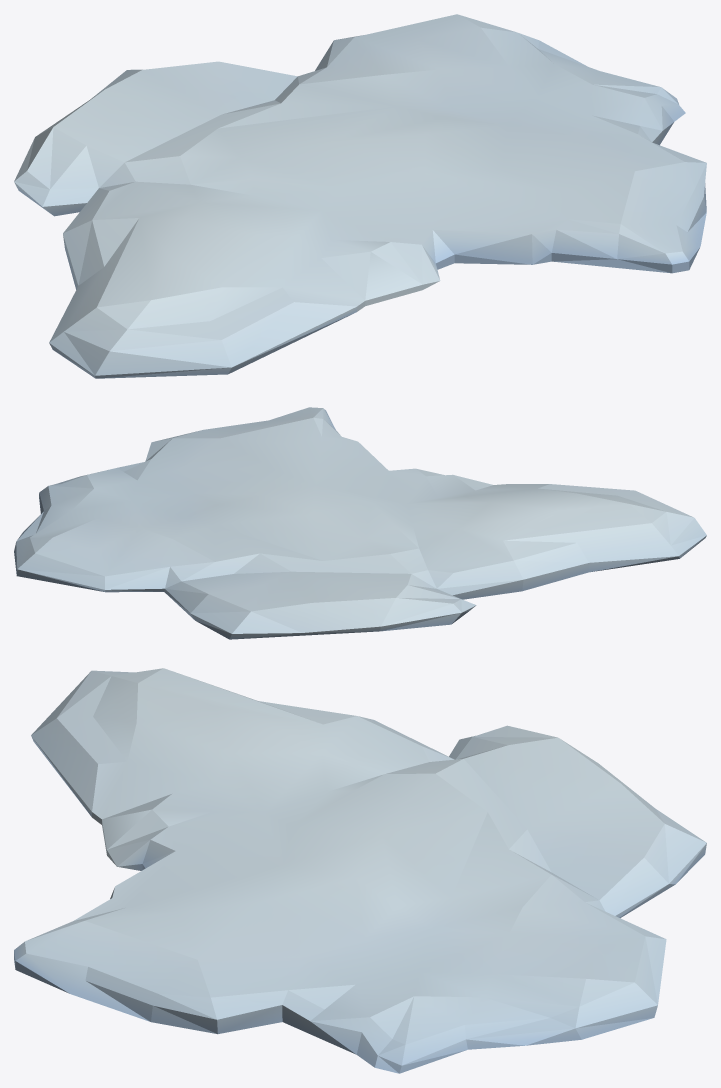
The model's file is Terrain_Stage2_Snow_1.fbx.
3 renders of one model, top to bottom at view 1: azimuth 30°, elevation 25°; view 2: azimuth 150°, elevation 25°; view 3: azimuth 270°, elevation 25°, orthographic. The views are drawn at different scales.
Visible parts, largest first — view 1: terrain_snow_105; view 2: terrain_snow_105; view 3: terrain_snow_105.
Part boxes in pixels (<box>): terrain_snow_105: <box>14,14,706,378</box>; terrain_snow_105: <box>14,407,706,639</box>; terrain_snow_105: <box>14,668,706,1073</box>.
Size of the model in its own units: 2010 by 163 by 1578.
1 material, 1 textured.
